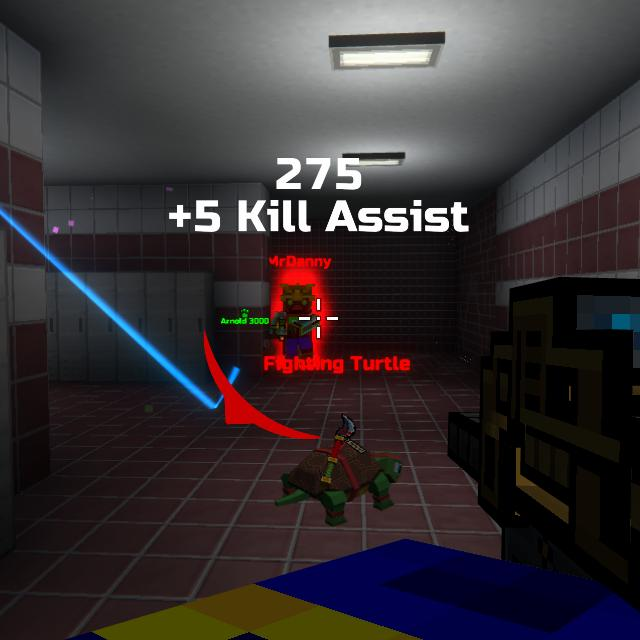Enemy: (269, 282, 320, 366)
